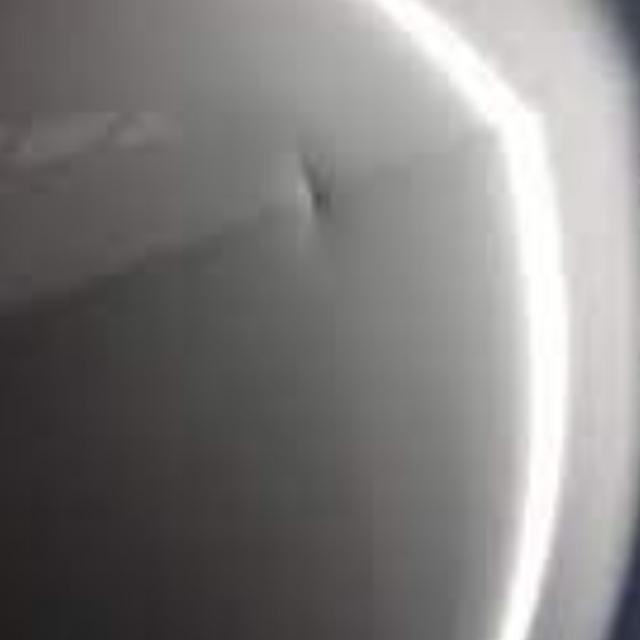dents: (253, 124, 376, 252)
